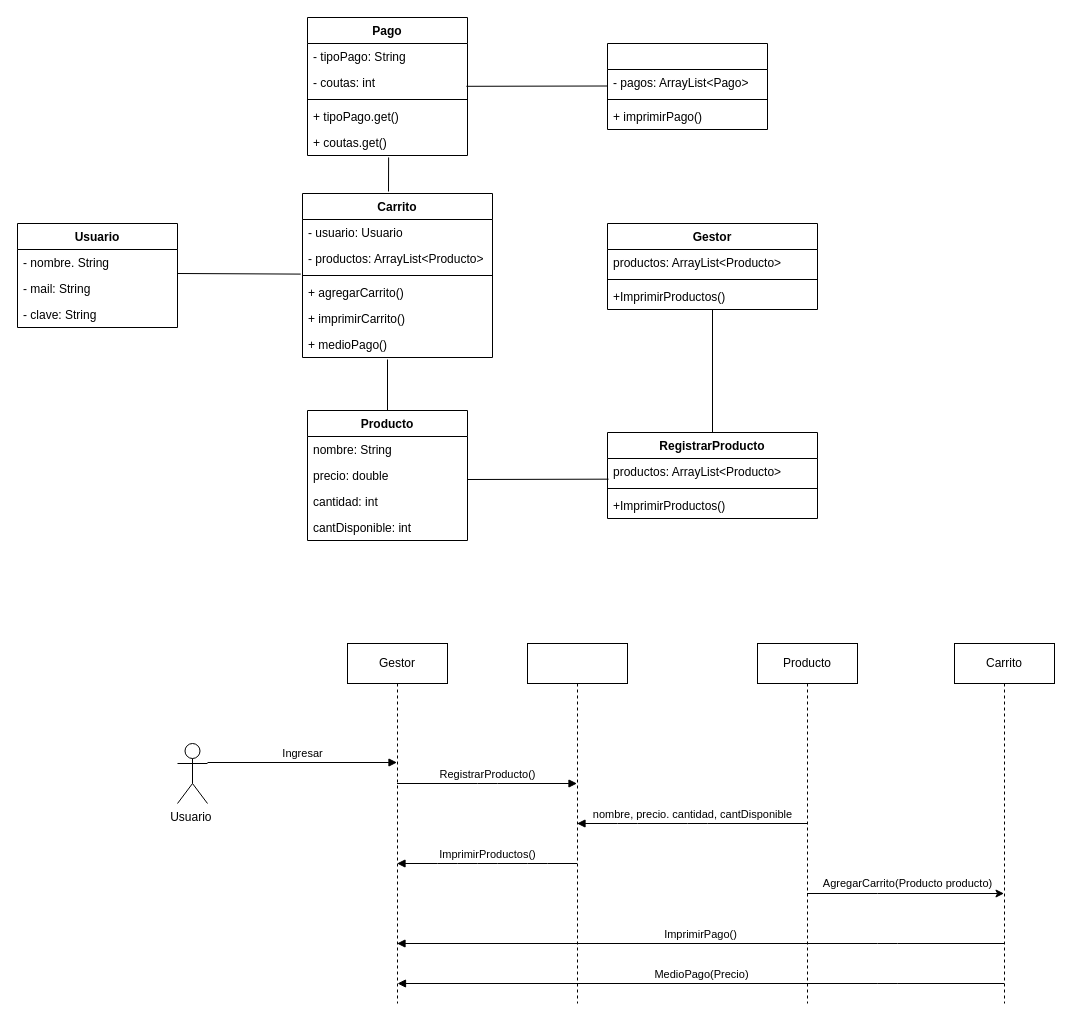
Some shapes in this 1072 by 1021 pixel diagram are drawn without their labels. The shapes that lost their labels are listed below. From the top down, each one's box as (x1, y1, x2, y2) in pixels, then its label:
(606, 42, 768, 130): RegistrarPago
(526, 642, 628, 1004): Registrar Producto
